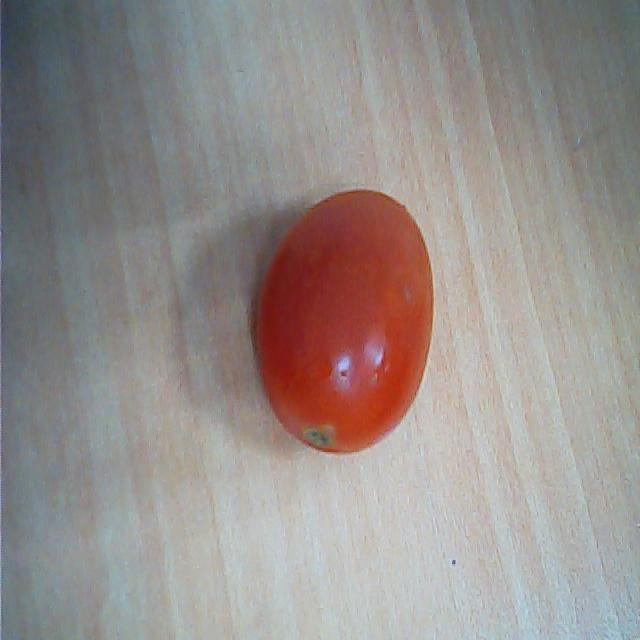maduro: (254, 186, 435, 458)
